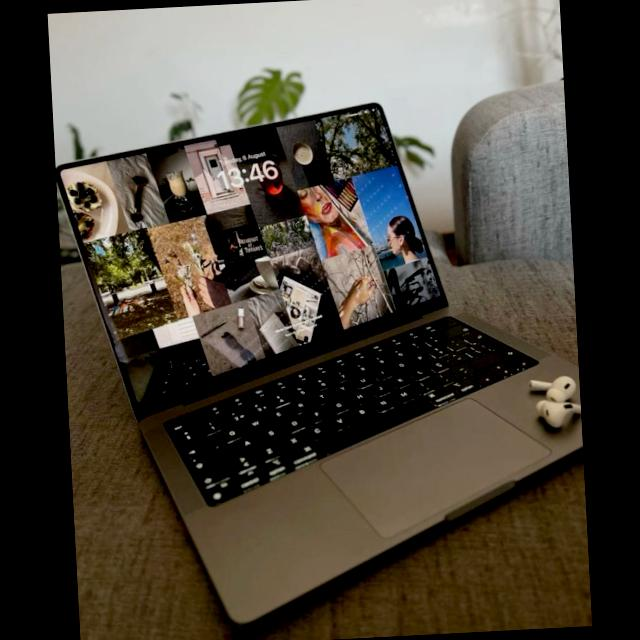laptop: (55, 90, 528, 640)
